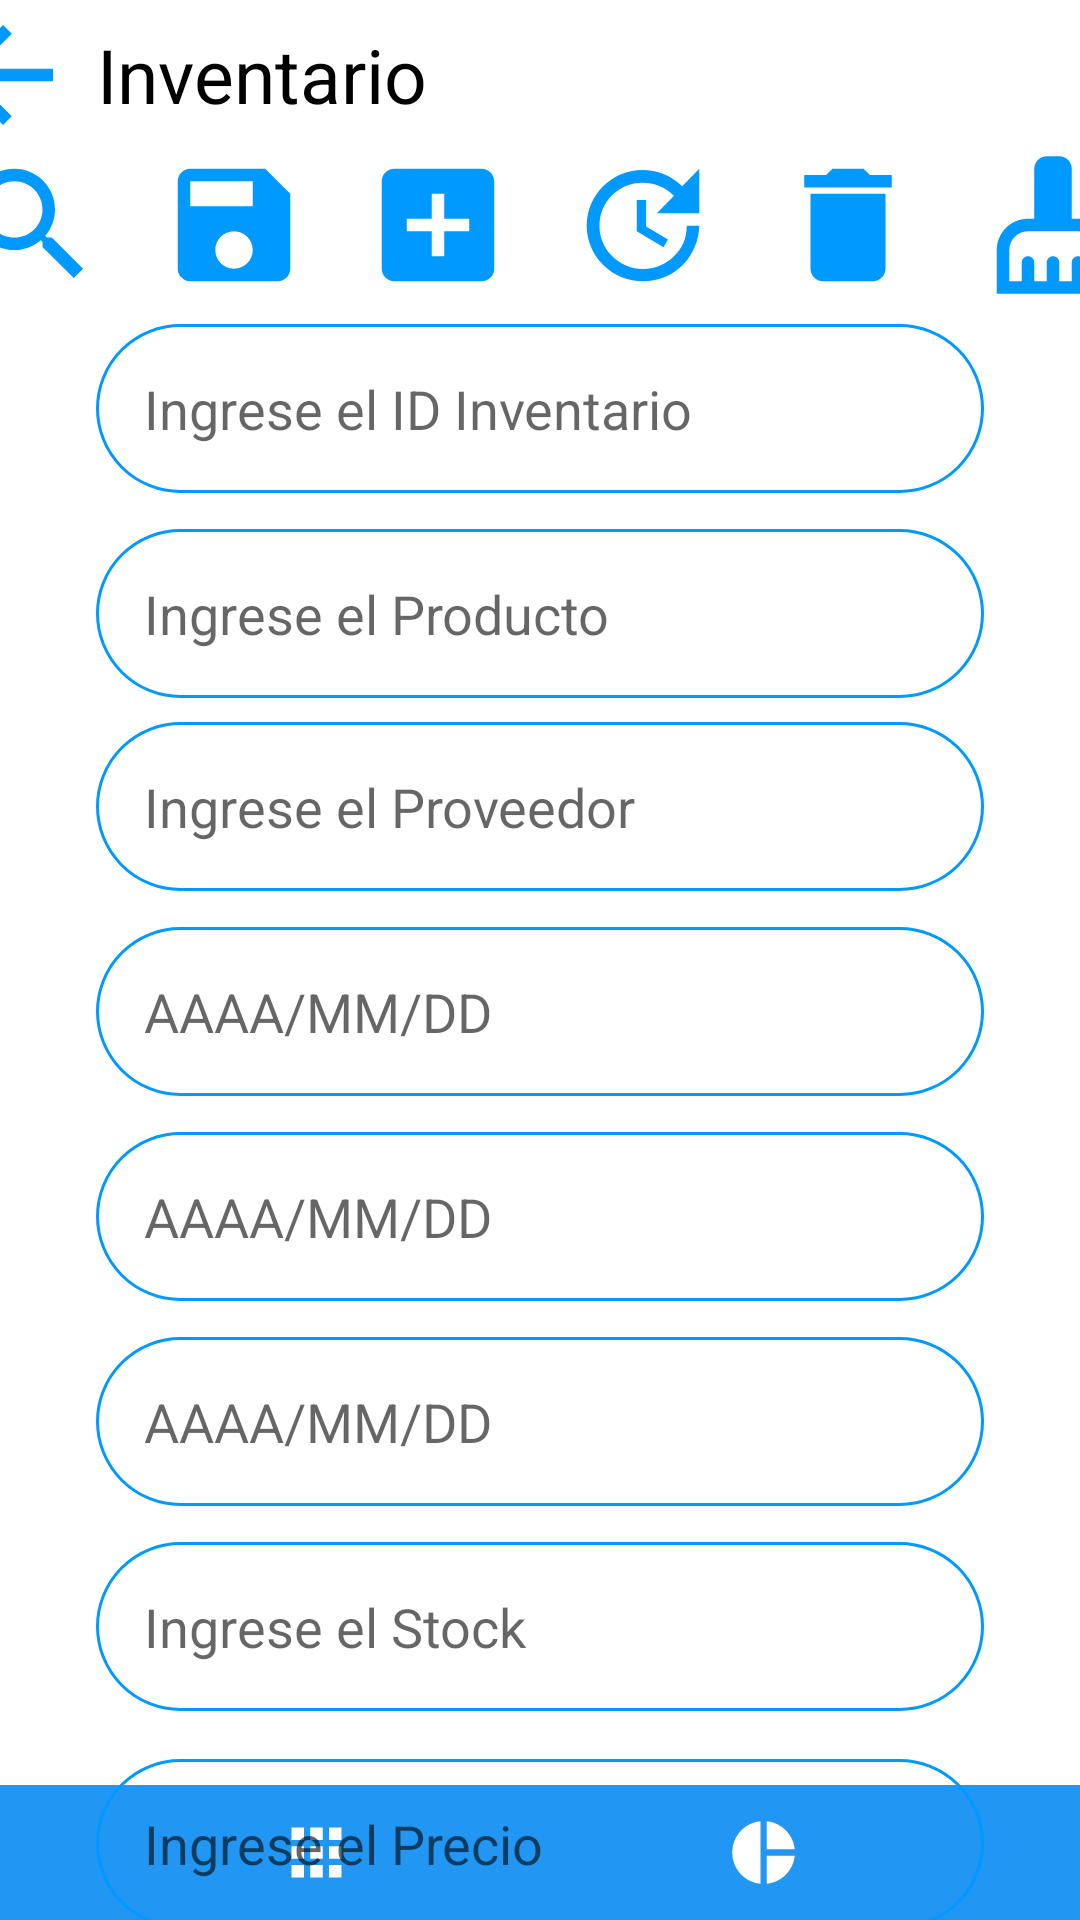

Named icons in this screenshot (1080x1920) and their centers, point (x, y):
actualizar: point (643, 225)
aniadir: point (438, 225)
eliminar: point (848, 225)
guardar: point (234, 225)
pie chart: point (763, 1852)
